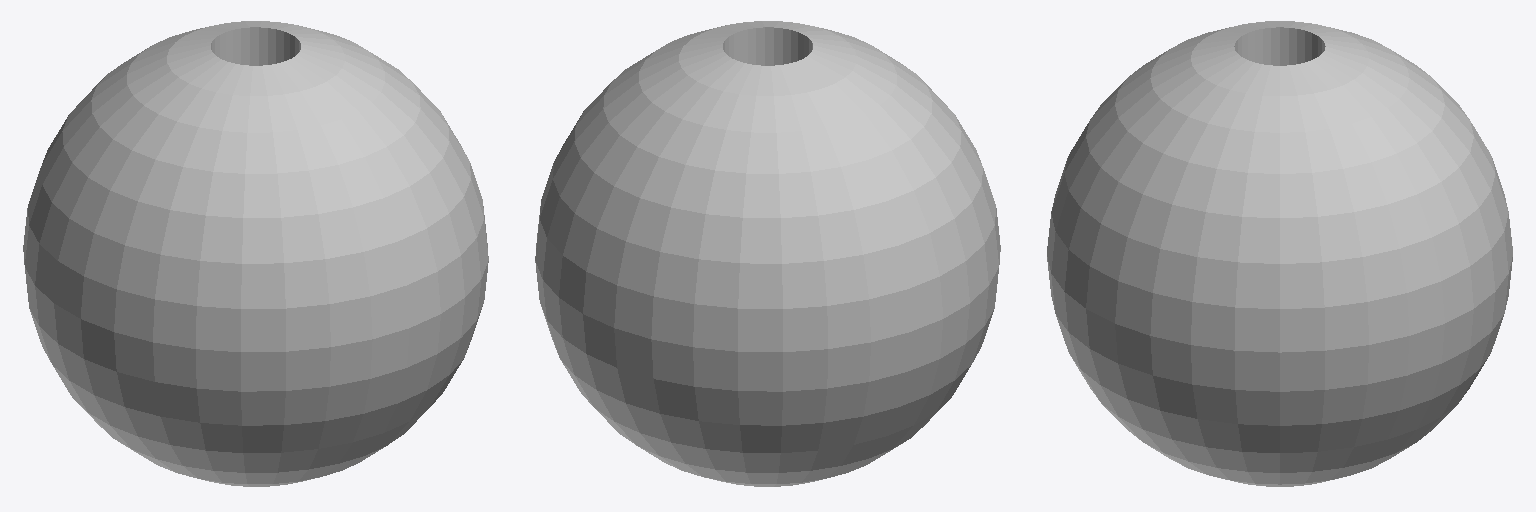
File: Moon.obj
3 views of the same model, side by side, from view 1: azimuth 30°, elevation 25°; view 2: azimuth 150°, elevation 25°; view 3: azimuth 270°, elevation 25° (orthographic).
Parts seen in each view (by area): view 1: Sphere; view 2: Sphere; view 3: Sphere.
Part boxes in pixels (left/top/right/bottom): Sphere: left=23, top=21, right=488, bottom=486; Sphere: left=535, top=21, right=1000, bottom=486; Sphere: left=1047, top=21, right=1512, bottom=486.
Size of the model in its own units: 2 by 1.98 by 2.